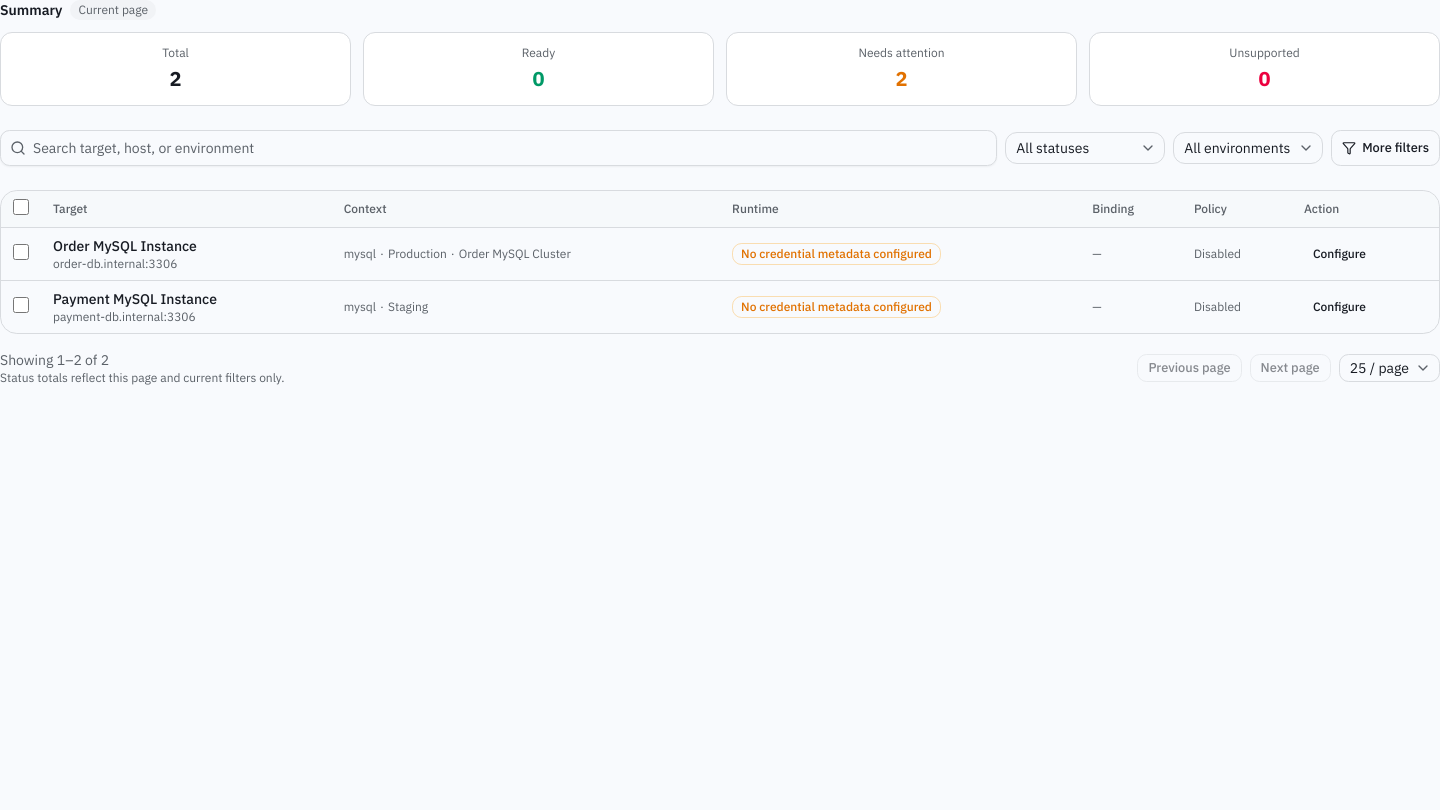
Scenario: QueryCredentialSettings admin gate — selecting a target › shows the credential detail panel when admin selects a target
Click the first target.
Click the button "Order MySQL Instance": coordinates (125, 246) [53,236,197,256]
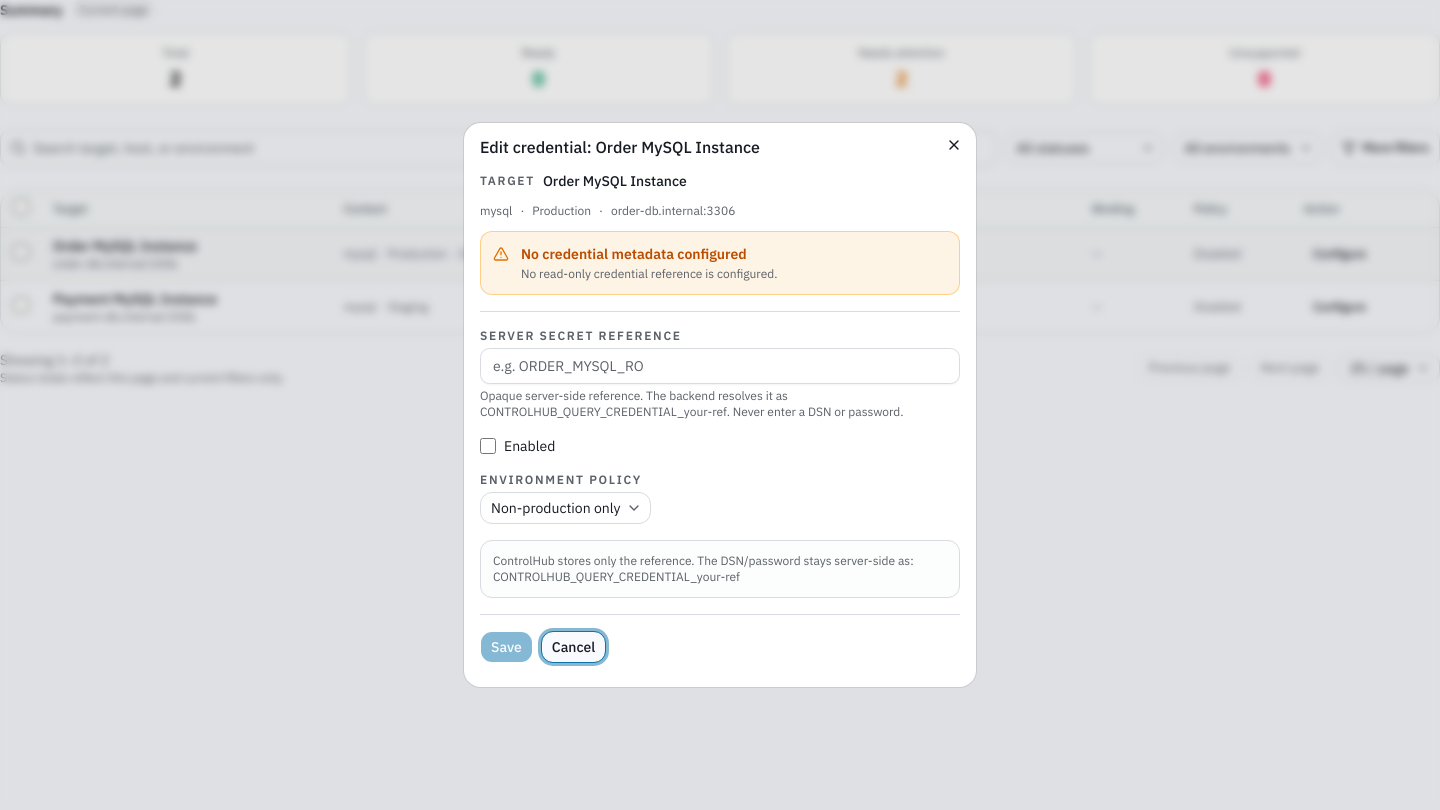
Result: the dialog is shown at [464,123,976,687]
